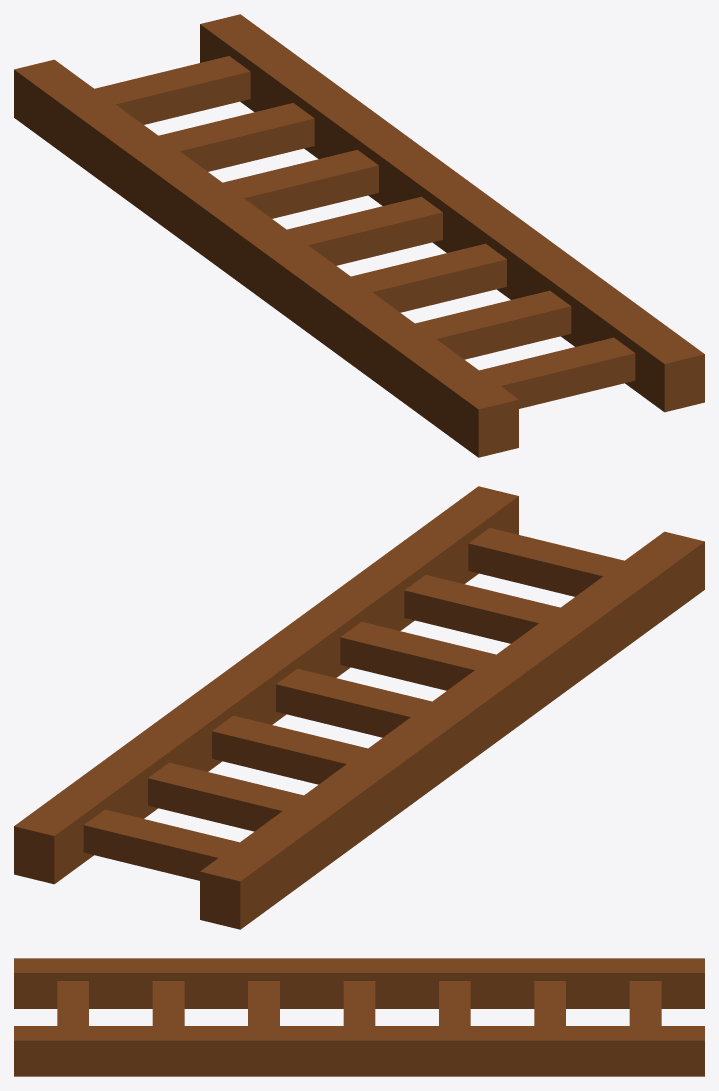
File: drabinaPoprawka.gltf
3 renders of one model, top to bottom at view 1: azimuth 30°, elevation 25°; view 2: azimuth 150°, elevation 25°; view 3: azimuth 270°, elevation 25°, orthographic. The views are drawn at different scales.
Visible parts, largest first — view 1: drabina; view 2: drabina; view 3: drabina.
Boxes of the visible parts, x1,y1,x2,y2 form: drabina: [14, 14, 704, 457]; drabina: [14, 486, 704, 929]; drabina: [14, 958, 704, 1076].
Size of the model in its own units: 3.48 by 0.7095 by 12.37.
